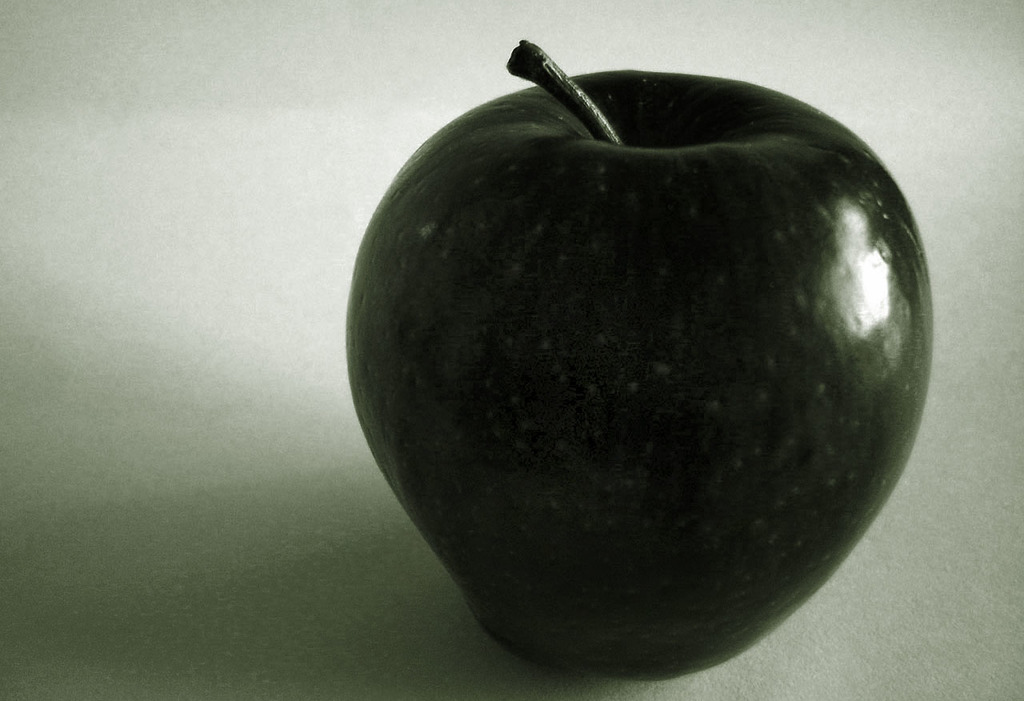Apple: (345, 64, 922, 674)
